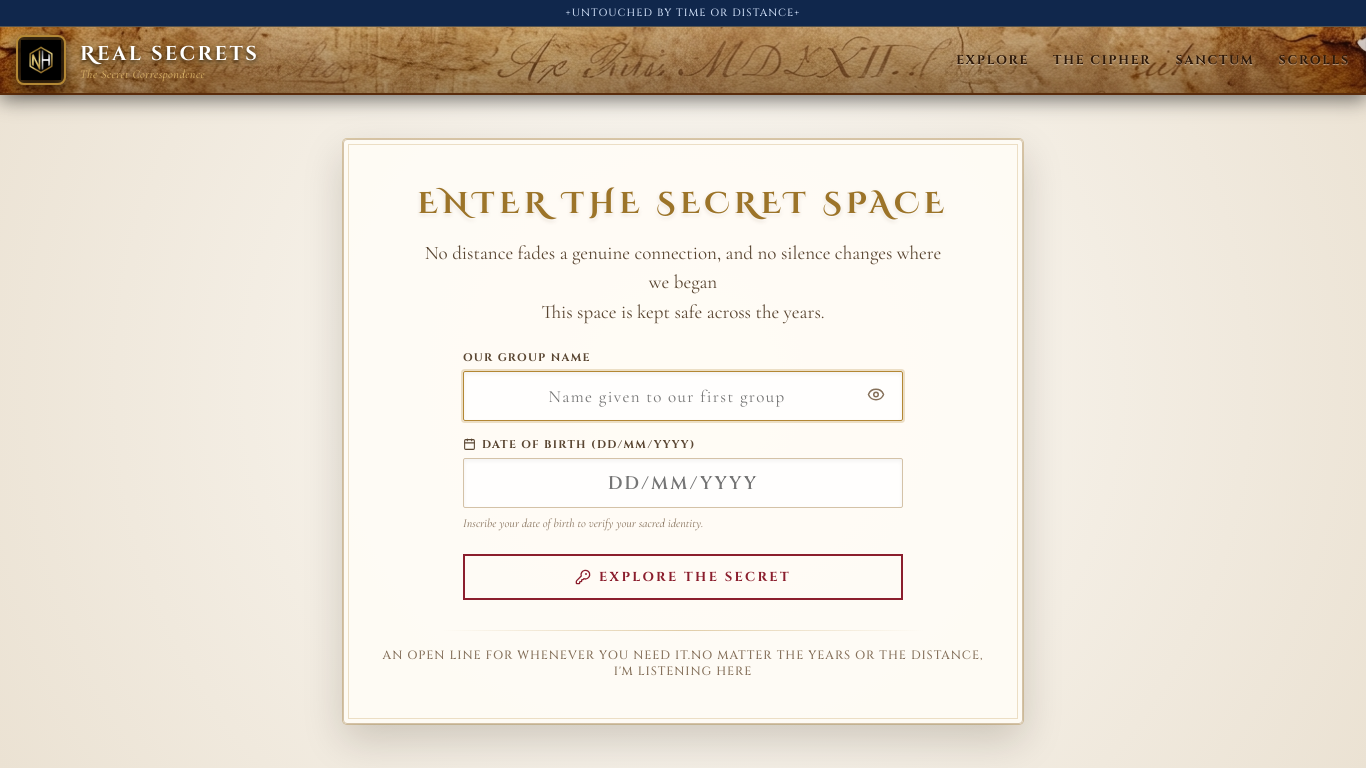
Test: Realsecrets Date-of-Birth Identity Flow › shows error if date of birth does not match either keeper
Type "bepositive" into the password field with id "secret-code-input" at (683, 396), box [463,371,903,421]
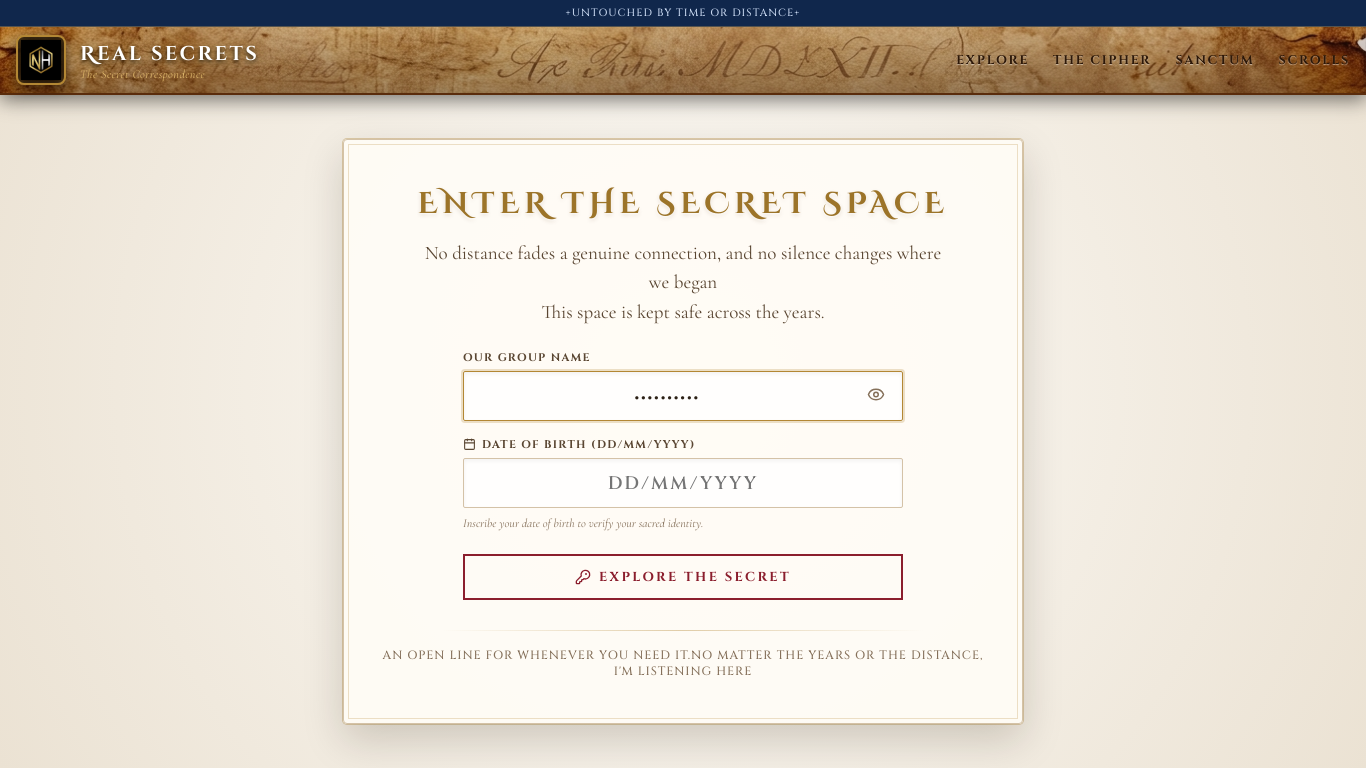
Type "10/10/2000" into the field with id "dob-input" at (683, 483), box [463,458,903,508]
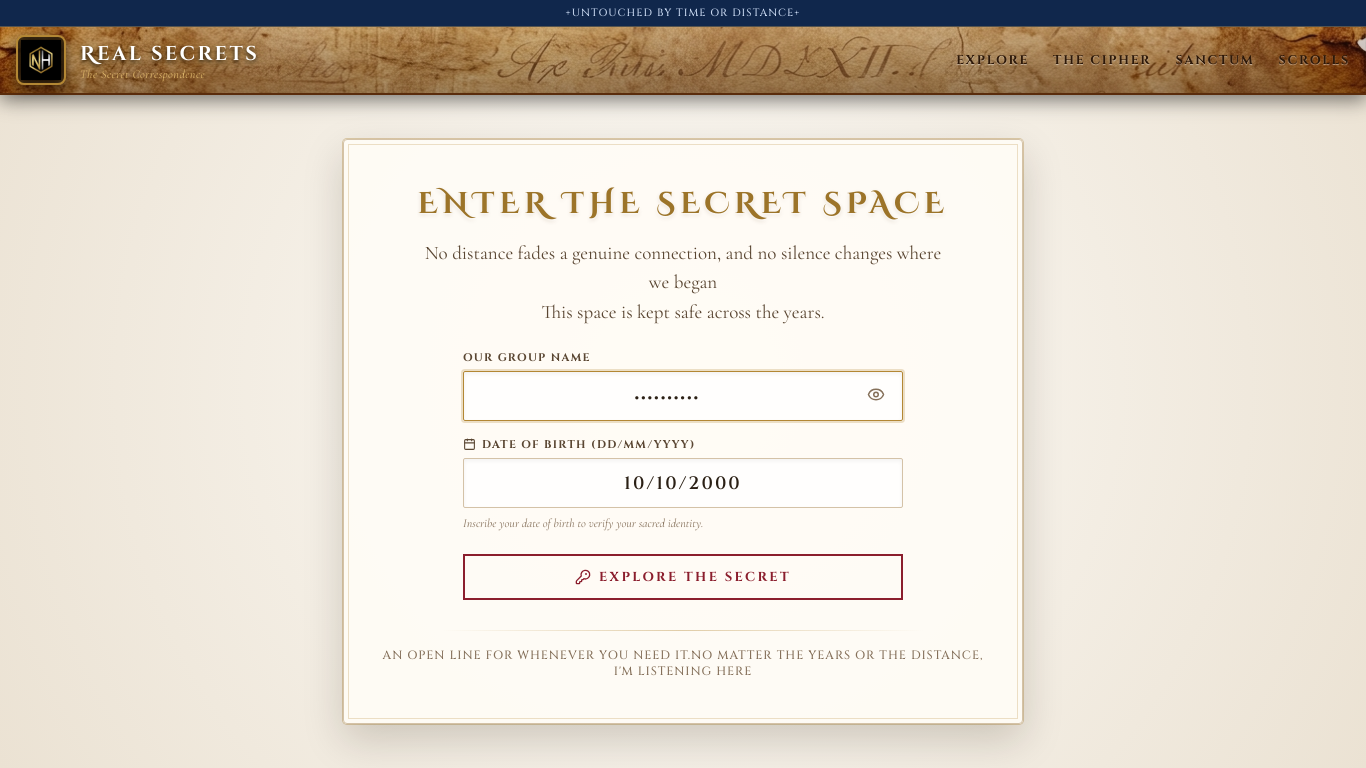
Click the button with id "continue-button" at (683, 577), box [463,554,903,600]
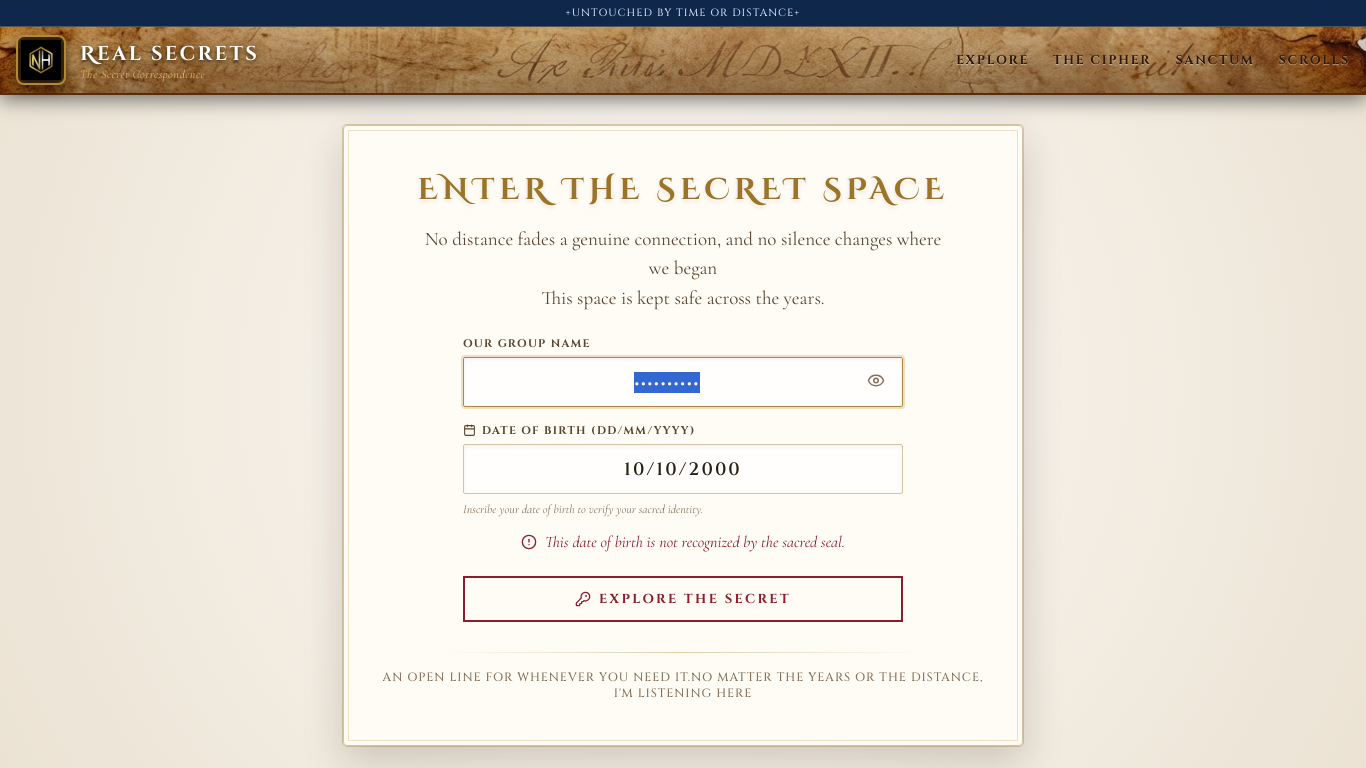
Check: the text "This date of birth is not recognized by the sacred seal." is shown, box [545,532,845,552]
